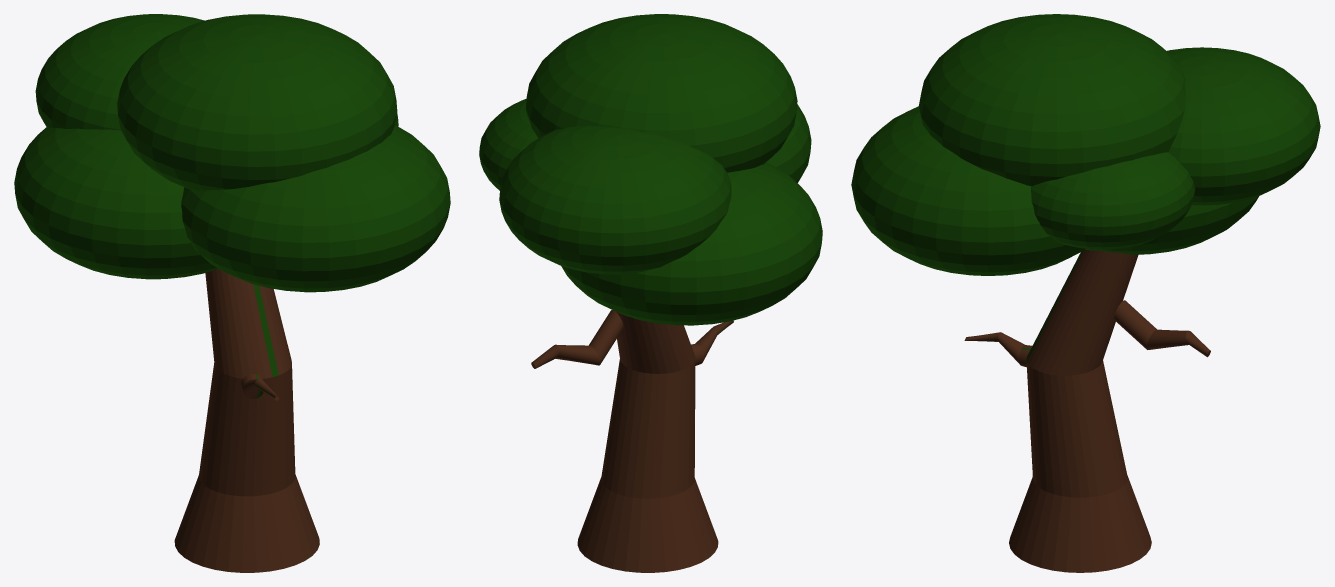
File: tree.fbx
3 renders of one model, left to right at view 1: azimuth 30°, elevation 25°; view 2: azimuth 150°, elevation 25°; view 3: azimuth 270°, elevation 25°, orthographic. The views are drawn at different scales.
Visible parts, largest first — view 1: Cylinder; view 2: Cylinder; view 3: Cylinder.
Part boxes in pixels (left/top/right/bottom): Cylinder: left=14, top=14, right=450, bottom=572; Cylinder: left=479, top=14, right=822, bottom=572; Cylinder: left=851, top=14, right=1320, bottom=572.
Size of the model in its own units: 500 by 729 by 611.
